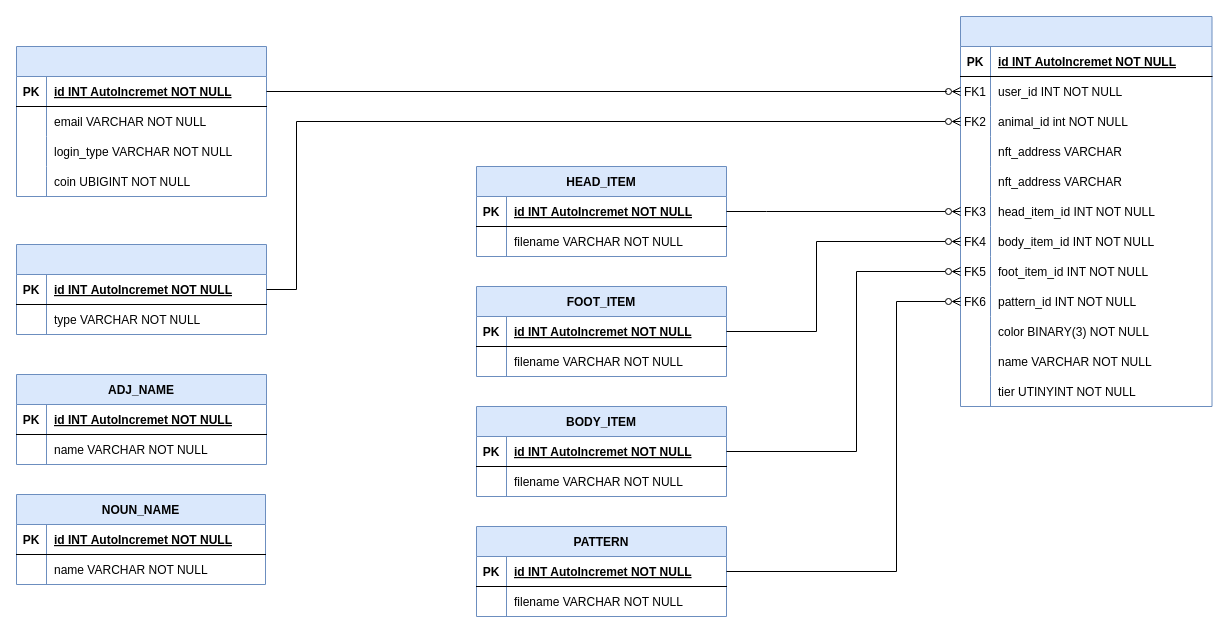
This 1228x633 diagram has some shape labels left out. The shapes that lost their labels are listed below. From the top down, each one's box as (x1, y1, x2, y2) in pixels, then its label:
(16, 46, 266, 196): USER
(960, 16, 1212, 406): ANIMAL_POSSESSION
(16, 244, 266, 334): ANIMAL
